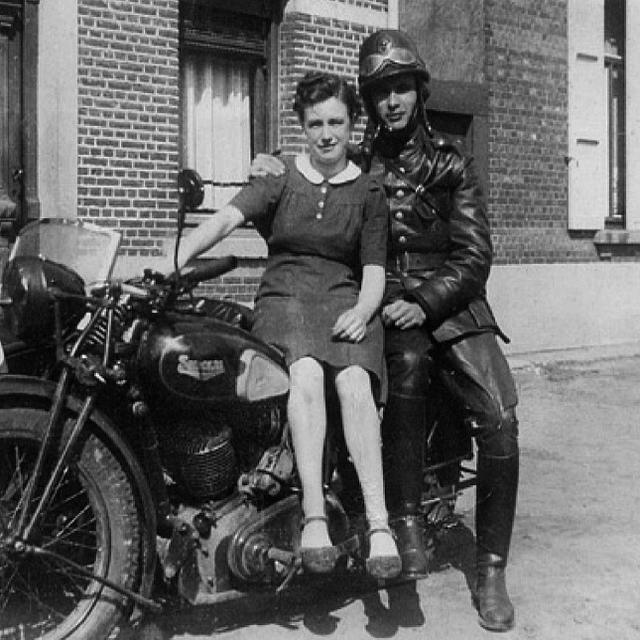motor: (1, 172, 481, 634)
